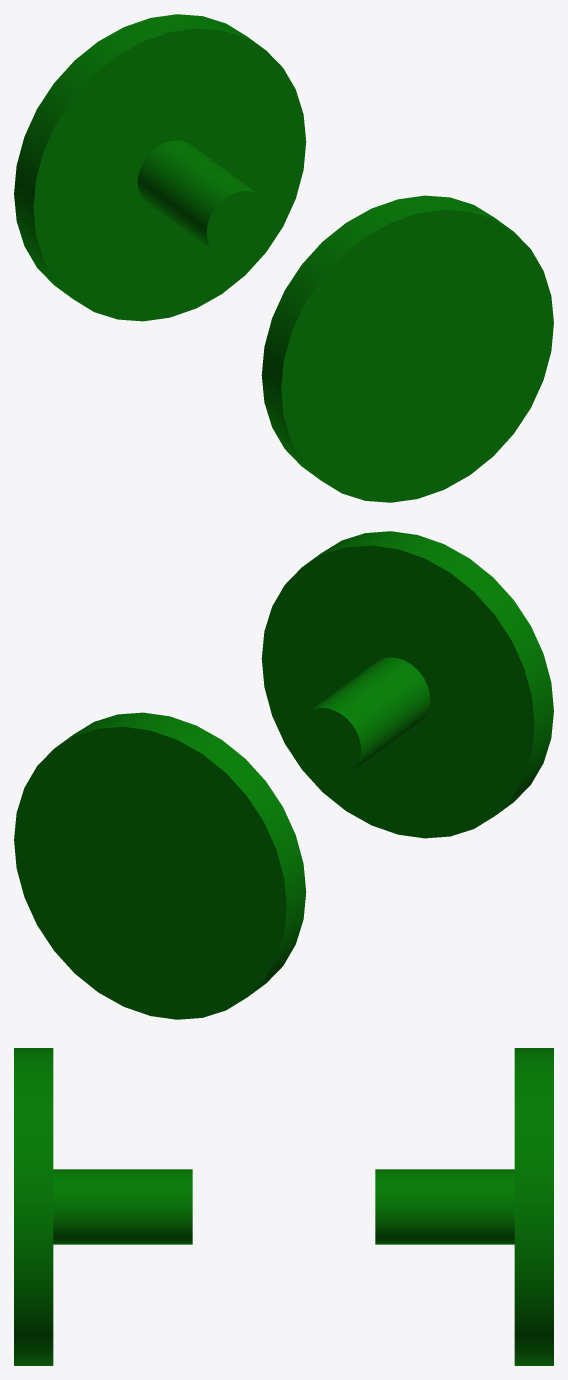
Rendered from Image-1710907768355-2281130144720_62-PC50A.fbx.
3 views of the same model, one above another, from view 1: azimuth 30°, elevation 25°; view 2: azimuth 150°, elevation 25°; view 3: azimuth 270°, elevation 25° (orthographic).
Visible parts, largest first — view 1: /62-PC50A/N2, /62-PC50A/N1; view 2: /62-PC50A/N2, /62-PC50A/N1; view 3: /62-PC50A/N2, /62-PC50A/N1.
Boxes of the visible parts, box(x1,y1,x2,y2) form: /62-PC50A/N2: box(14, 14, 306, 321); /62-PC50A/N1: box(261, 195, 553, 502); /62-PC50A/N2: box(14, 712, 306, 1019); /62-PC50A/N1: box(261, 531, 553, 838); /62-PC50A/N2: box(375, 1048, 553, 1365); /62-PC50A/N1: box(14, 1048, 192, 1365).
Bounding box in the file's own units: 0.089 × 0.151 × 0.089.
